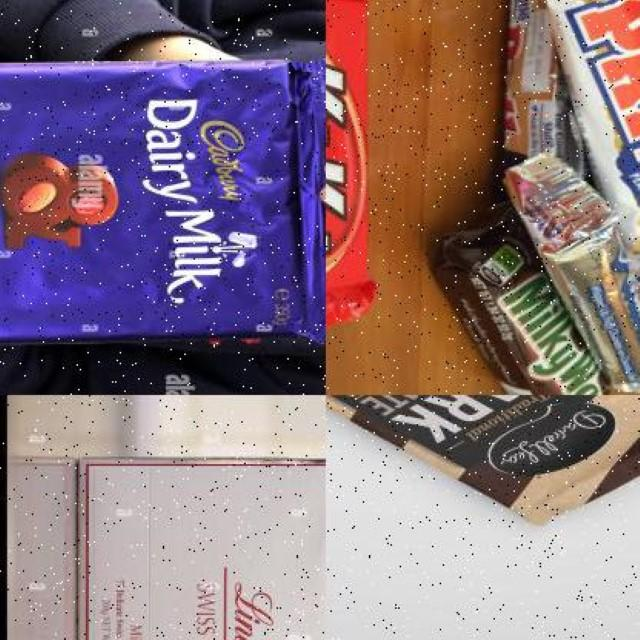cadbury_chocolate: (0, 59, 313, 348)
